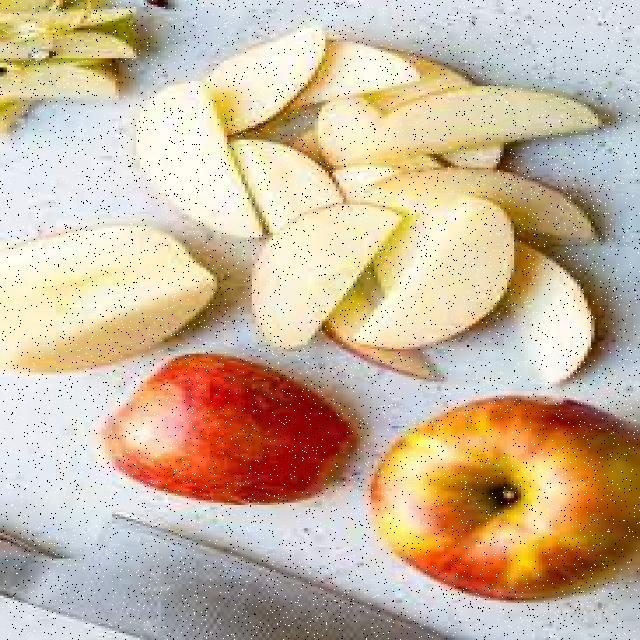Apple: (363, 399, 640, 602), (101, 360, 364, 506), (0, 222, 220, 375), (357, 202, 518, 350), (250, 202, 406, 352), (126, 82, 269, 243), (362, 86, 607, 167), (358, 168, 622, 235), (504, 236, 620, 385), (203, 27, 329, 135), (327, 284, 439, 380), (0, 0, 154, 68), (243, 134, 345, 227), (294, 42, 432, 110), (0, 57, 122, 117)
